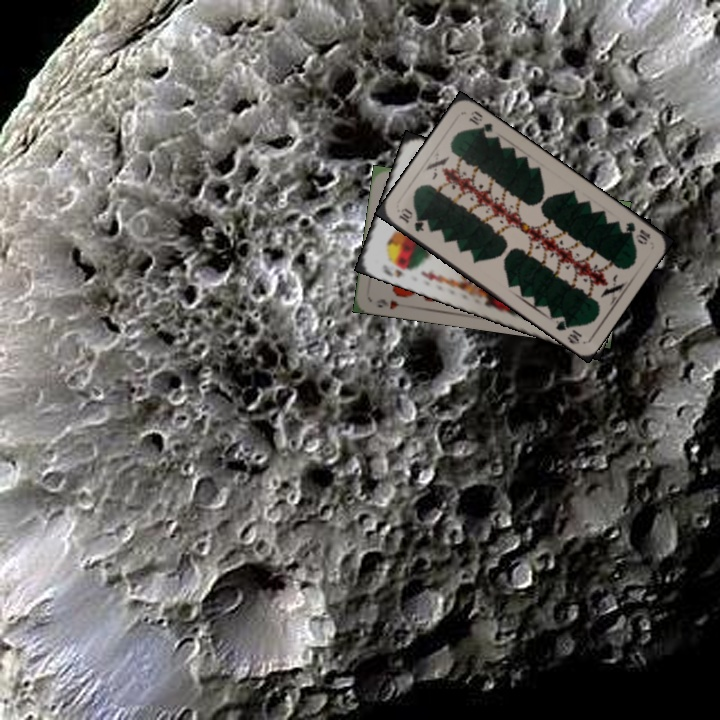G10: (395, 204, 427, 235), (620, 218, 653, 248)
H9: (373, 295, 409, 312)
SK: (378, 260, 406, 280)
